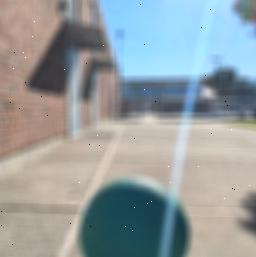algae: (76, 174, 192, 257)
